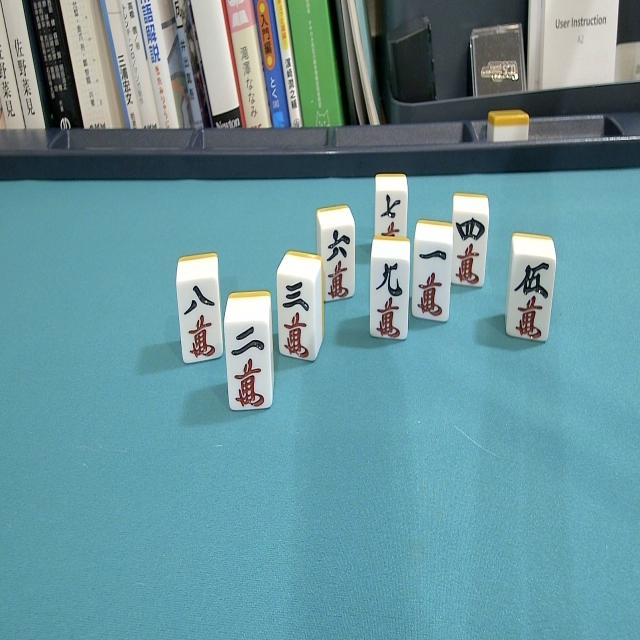1_man: (412, 219, 454, 329)
2_man: (222, 289, 276, 420)
3_man: (276, 250, 324, 368)
4_man: (450, 193, 491, 293)
5_man: (505, 230, 556, 350)
6_man: (315, 205, 357, 304)
7_man: (368, 172, 411, 251)
8_man: (174, 252, 224, 370)
9_man: (368, 236, 411, 347)
